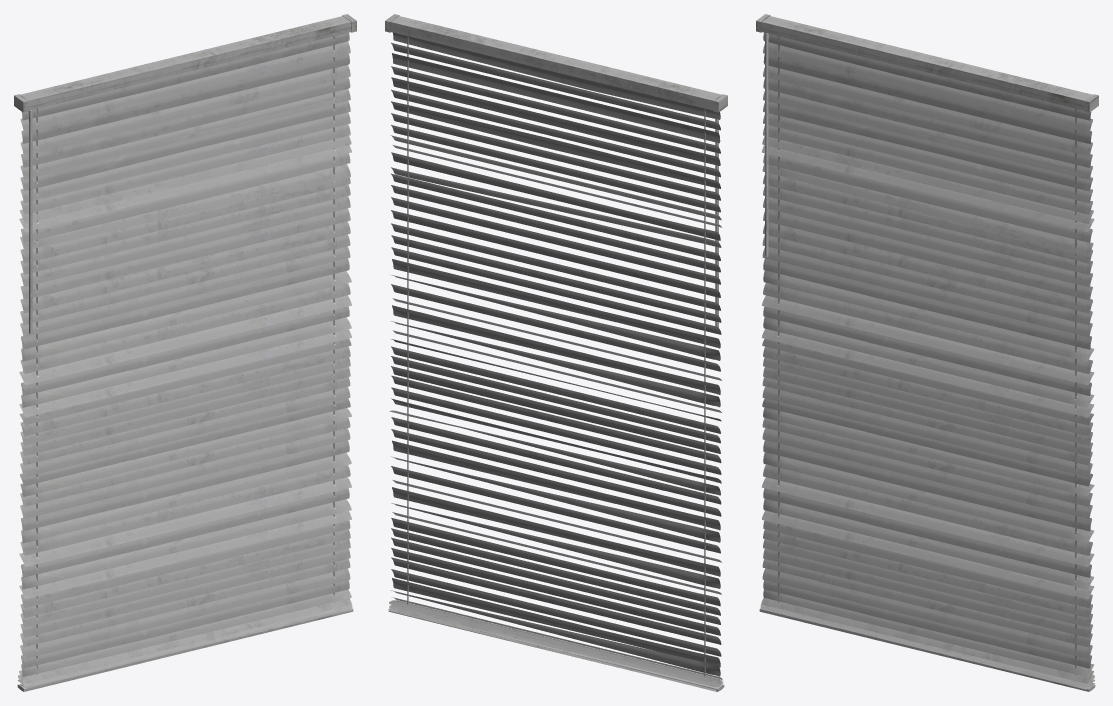
The model's file is SM_Blinds_01c.fbx.
The picture shows the model from 3 angles, left to right: view 1: azimuth 30°, elevation 25°; view 2: azimuth 150°, elevation 25°; view 3: azimuth 330°, elevation 25°; orthographic projection.
Parts seen in each view (by area): view 1: SM_Blinds_01c_LOD0; view 2: SM_Blinds_01c_LOD0; view 3: SM_Blinds_01c_LOD0.
Part boxes in pixels (x1,y1,x2,y2): SM_Blinds_01c_LOD0: [14, 14, 356, 691]; SM_Blinds_01c_LOD0: [385, 14, 727, 691]; SM_Blinds_01c_LOD0: [756, 14, 1098, 691].
Bounding box in the file's own units: 150 × 7.4 × 254.
1 material, 1 textured.
